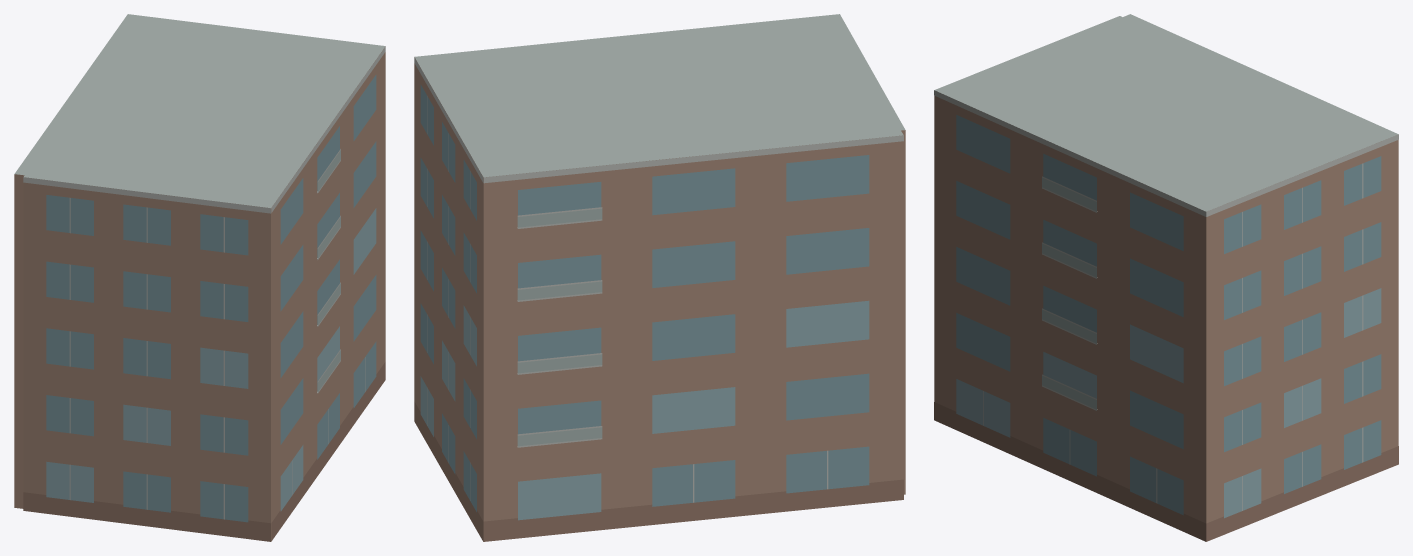
Rendered from survey-upis-32718938.glb.
3 views of the same model, side by side, from view 1: azimuth 30°, elevation 25°; view 2: azimuth 150°, elevation 25°; view 3: azimuth 270°, elevation 25° (orthographic). The views are drawn at different scales.
Visible parts, largest first — view 1: survey-upis-32718938.tmp; view 2: survey-upis-32718938.tmp; view 3: survey-upis-32718938.tmp.
Part boxes in pixels (bbox=[...]): survey-upis-32718938.tmp: bbox=[14, 14, 385, 541]; survey-upis-32718938.tmp: bbox=[414, 14, 905, 541]; survey-upis-32718938.tmp: bbox=[934, 14, 1398, 541].
Bounding box in the file's own units: 19.28 × 15 × 19.14.
